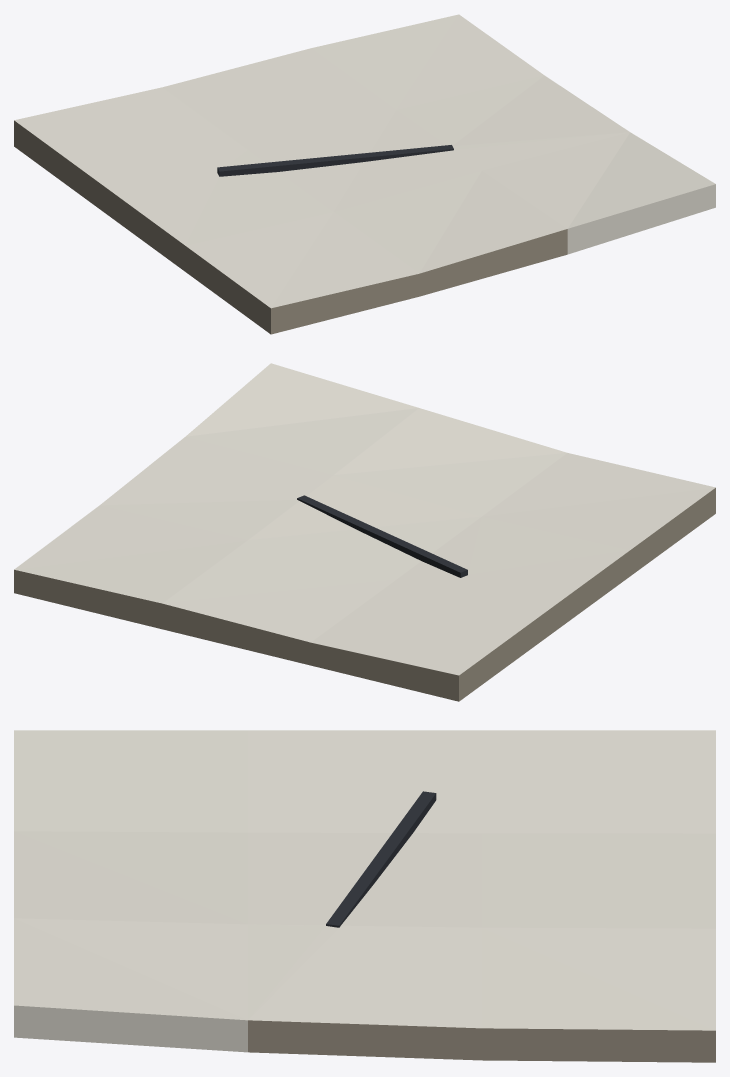
The model's file is sticky_note.glb.
3 views of the same model, one above another, from view 1: azimuth 30°, elevation 25°; view 2: azimuth 150°, elevation 25°; view 3: azimuth 270°, elevation 25° (orthographic). The views are drawn at different scales.
Visible parts, largest first — view 1: sticky_note; view 2: sticky_note; view 3: sticky_note.
Boxes of the visible parts, bbox=[...] form: sticky_note: bbox=[14, 14, 715, 334]; sticky_note: bbox=[14, 363, 715, 701]; sticky_note: bbox=[14, 730, 715, 1062].
Size of the model in its own units: 0.076 by 0.00683 by 0.076.
